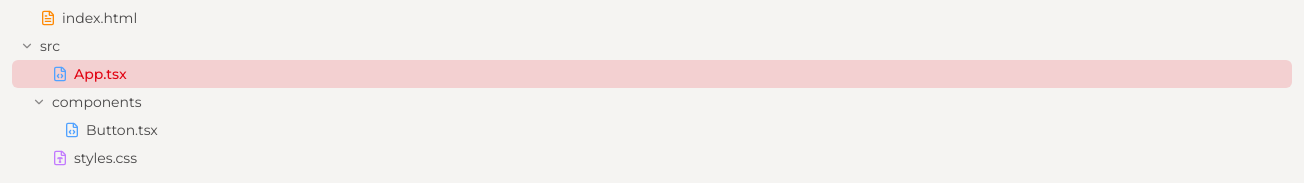
Scenario: FileTree › should toggle directory expand/collapse on click
The image size is (1304, 183).
Expected: the text "Button.tsx" is shown, [86,120,158,140]
# Click to collapse
Click the button "components".
click(97, 102)  # box [12,88,1292,116]
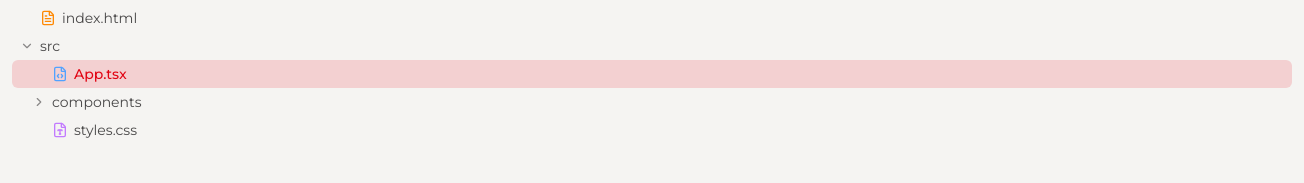
Result: the button "Button.tsx" is gone
# Click to expand again
Click the button "components".
click(97, 102)  # box [12,88,1292,116]
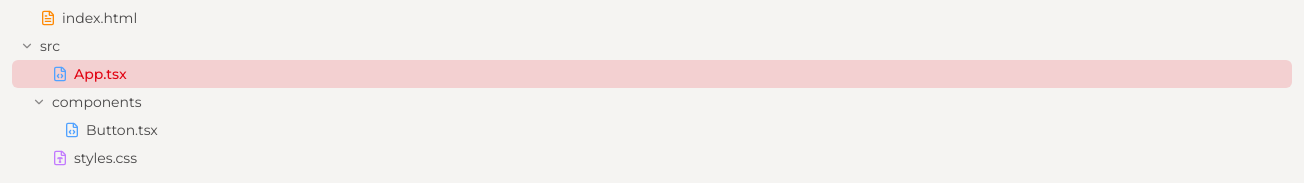
Result: the text "Button.tsx" is shown at [86,120,158,140]
